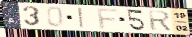0: (45, 5, 65, 29)
3: (22, 5, 41, 27)
5: (127, 9, 147, 31)
F: (96, 8, 120, 30)
I: (77, 7, 87, 29)
R: (147, 10, 174, 31)
